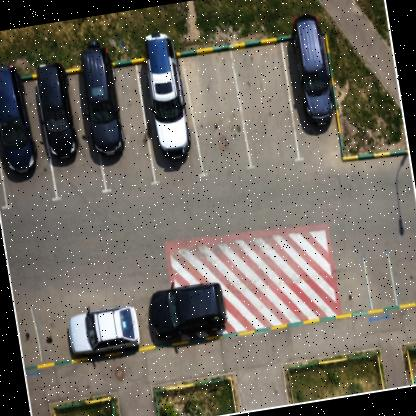Car: (132, 37, 192, 170), (285, 22, 336, 133), (84, 52, 136, 156), (64, 298, 136, 364), (148, 284, 224, 338), (0, 76, 39, 177), (36, 70, 76, 148)
Empty: (190, 53, 238, 160), (238, 47, 287, 144), (335, 259, 364, 308), (399, 255, 416, 298)
